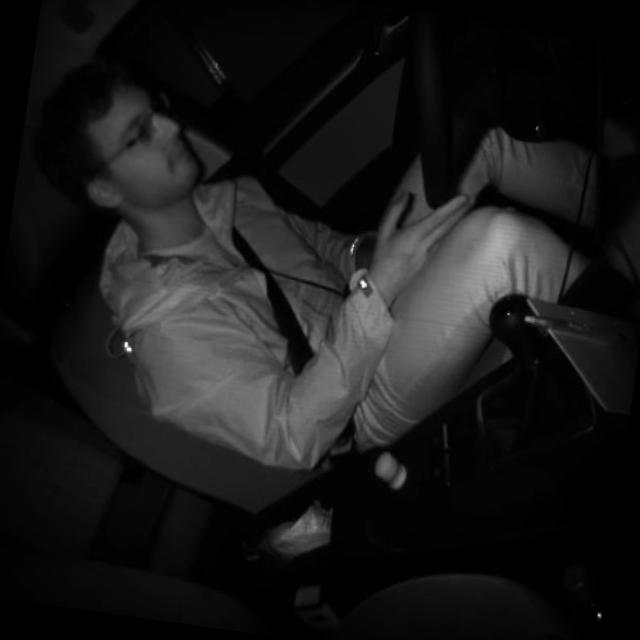pen: (522, 312, 630, 343)
